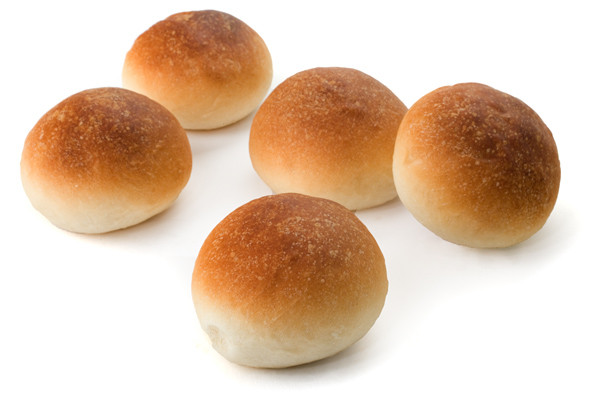hamburger_buns: (185, 189, 415, 360), (392, 75, 567, 276), (15, 90, 228, 234), (248, 67, 418, 214)
